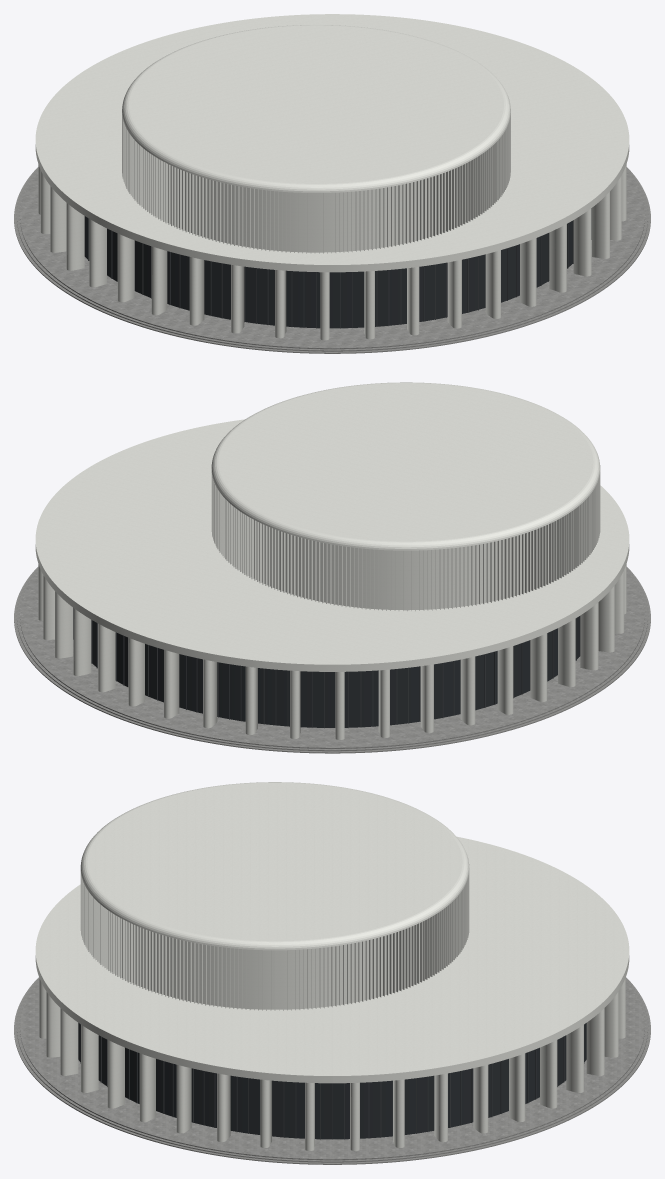
Rendered from bldg_rotunda.glb.
3 renders of one model, top to bottom at view 1: azimuth 30°, elevation 25°; view 2: azimuth 150°, elevation 25°; view 3: azimuth 270°, elevation 25°, orthographic.
Parts seen in each view (by area): view 1: bldg_rotunda.upper_cap, bldg_rotunda.roof_terrace, bldg_rotunda.plinth, bldg_rotunda.glass_wall, bldg_rotunda.upper_drum_core, bldg_rotunda.cornice, bldg_rotunda.pier.033, bldg_rotunda.pier.021, bldg_rotunda.pier.019, bldg_rotunda.pier.032, bldg_rotunda.pier.020, bldg_rotunda.pier.022 (+13 smaller); view 2: bldg_rotunda.roof_terrace, bldg_rotunda.upper_cap, bldg_rotunda.plinth, bldg_rotunda.glass_wall, bldg_rotunda.upper_drum_core, bldg_rotunda.cornice, bldg_rotunda.pier.006, bldg_rotunda.pier.018, bldg_rotunda.pier.020, bldg_rotunda.pier.007, bldg_rotunda.pier.019, bldg_rotunda.pier.017 (+13 smaller); view 3: bldg_rotunda.roof_terrace, bldg_rotunda.upper_cap, bldg_rotunda.plinth, bldg_rotunda.glass_wall, bldg_rotunda.upper_drum_core, bldg_rotunda.cornice, bldg_rotunda.pier.005, bldg_rotunda.pier.034, bldg_rotunda.pier.007, bldg_rotunda.pier.032, bldg_rotunda.pier.006, bldg_rotunda.pier.033 (+12 smaller).
Part boxes in pixels (<box>): bldg_rotunda.upper_cap: <box>122,25,510,192</box>; bldg_rotunda.roof_terrace: <box>35,14,629,264</box>; bldg_rotunda.plinth: <box>14,167,650,353</box>; bldg_rotunda.glass_wall: <box>84,208,591,328</box>; bldg_rotunda.upper_drum_core: <box>168,164,462,252</box>; bldg_rotunda.cornice: <box>35,144,629,272</box>; bldg_rotunda.pier.033: <box>573,208,591,276</box>; bldg_rotunda.pier.021: <box>117,233,134,302</box>; bldg_rotunda.pier.019: <box>66,202,84,270</box>; bldg_rotunda.pier.032: <box>549,224,566,292</box>; bldg_rotunda.pier.020: <box>89,219,106,287</box>; bldg_rotunda.pier.022: <box>151,246,167,315</box>; bldg_rotunda.roof_terrace: <box>35,419,629,664</box>; bldg_rotunda.upper_cap: <box>211,382,600,550</box>; bldg_rotunda.plinth: <box>14,567,650,753</box>; bldg_rotunda.glass_wall: <box>73,608,580,727</box>; bldg_rotunda.upper_drum_core: <box>254,520,556,610</box>; bldg_rotunda.cornice: <box>35,544,629,671</box>; bldg_rotunda.pier.006: <box>73,608,91,676</box>; bldg_rotunda.pier.018: <box>530,633,547,701</box>; bldg_rotunda.pier.020: <box>580,602,598,670</box>; bldg_rotunda.pier.007: <box>98,623,115,692</box>; bldg_rotunda.pier.019: <box>558,618,575,686</box>; bldg_rotunda.pier.017: <box>497,646,513,714</box>; bldg_rotunda.roof_terrace: <box>35,836,629,1075</box>; bldg_rotunda.upper_cap: <box>80,782,469,950</box>; bldg_rotunda.plinth: <box>14,977,650,1164</box>; bldg_rotunda.glass_wall: <box>78,1023,586,1139</box>; bldg_rotunda.upper_drum_core: <box>122,919,422,1009</box>; bldg_rotunda.cornice: <box>35,955,629,1083</box>; bldg_rotunda.pier.005: <box>540,1040,557,1108</box>; bldg_rotunda.pier.034: <box>107,1040,124,1108</box>; bldg_rotunda.pier.007: <box>586,1008,604,1075</box>; bldg_rotunda.pier.032: <box>60,1008,78,1075</box>; bldg_rotunda.pier.006: <box>566,1025,583,1092</box>; bldg_rotunda.pier.033: <box>81,1025,98,1092</box>.
Bounding box in the file's own units: 84.07 × 21.33 × 84.07.
Materials: 5 (3 with a texture image).
